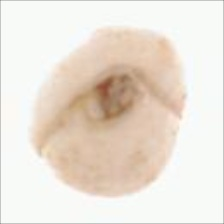L3: (82, 65, 145, 119)
L4: (29, 27, 186, 198)
